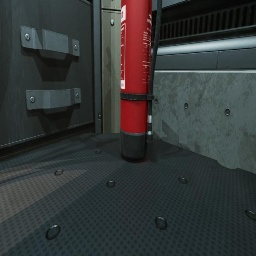FireExtinguisher ]: (120, 0, 162, 162)
